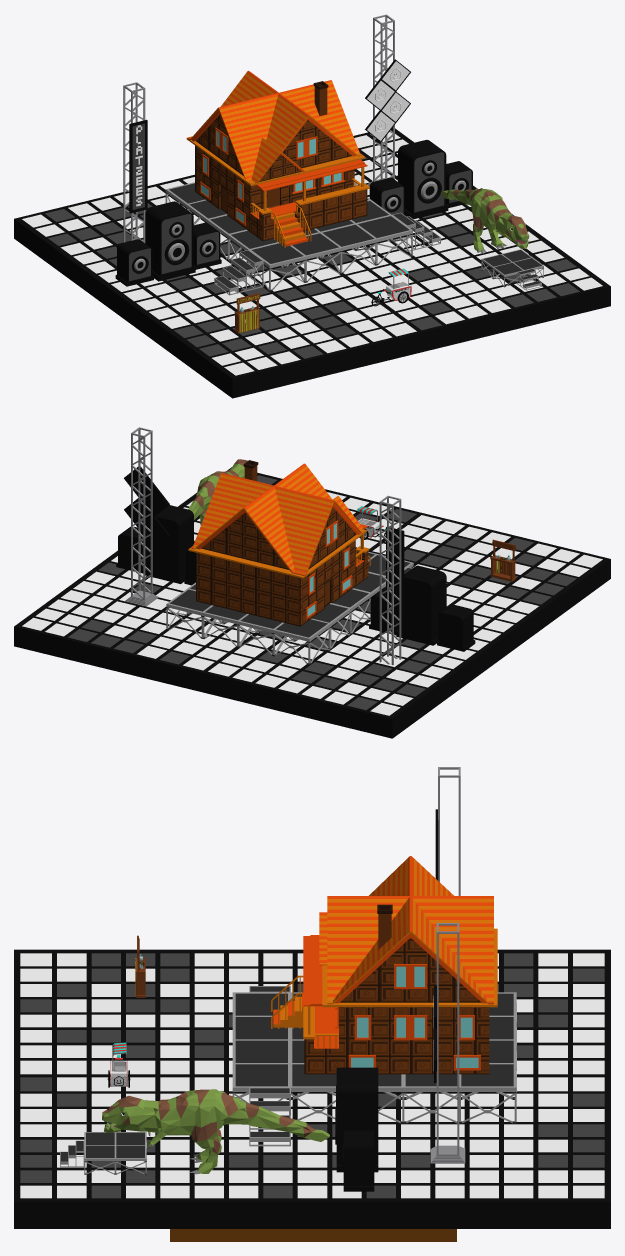
The picture shows the model from 3 angles, top to bottom: view 1: azimuth 30°, elevation 25°; view 2: azimuth 150°, elevation 25°; view 3: azimuth 270°, elevation 25°; orthographic projection. The views are drawn at different scales.
Visible parts, largest first — view 1: Cube.008, Cube, ANIMAL_TREX, OBJRANDOM_LEMONADE_STAND, VEHICLES_SNOWBAL_BIKE; view 2: Cube.008, Cube, ANIMAL_TREX, OBJRANDOM_LEMONADE_STAND, VEHICLES_SNOWBAL_BIKE; view 3: Cube.008, Cube, ANIMAL_TREX, UNDERGROUND_ART_PIECE_VAN_GOGH, VEHICLES_SNOWBAL_BIKE.
Boxes of the visible parts, <box> form: Cube.008: <box>14,14,610,398</box>; Cube: <box>186,70,369,247</box>; ANIMAL_TREX: <box>441,188,529,253</box>; OBJRANDOM_LEMONADE_STAND: <box>234,293,260,333</box>; VEHICLES_SNOWBAL_BIKE: <box>371,268,411,306</box>; Cube.008: <box>14,427,610,738</box>; Cube: <box>188,460,370,626</box>; ANIMAL_TREX: <box>188,459,247,525</box>; OBJRANDOM_LEMONADE_STAND: <box>490,539,515,581</box>; VEHICLES_SNOWBAL_BIKE: <box>357,506,385,540</box>; Cube.008: <box>14,767,610,1228</box>; Cube: <box>271,856,497,1074</box>; ANIMAL_TREX: <box>102,1089,329,1174</box>; UNDERGROUND_ART_PIECE_VAN_GOGH: <box>170,1229,456,1241</box>; VEHICLES_SNOWBAL_BIKE: <box>107,1042,130,1087</box>.
Bounding box in the file's own units: 4000 × 2098 × 4000.
41 materials, 3 textured.
